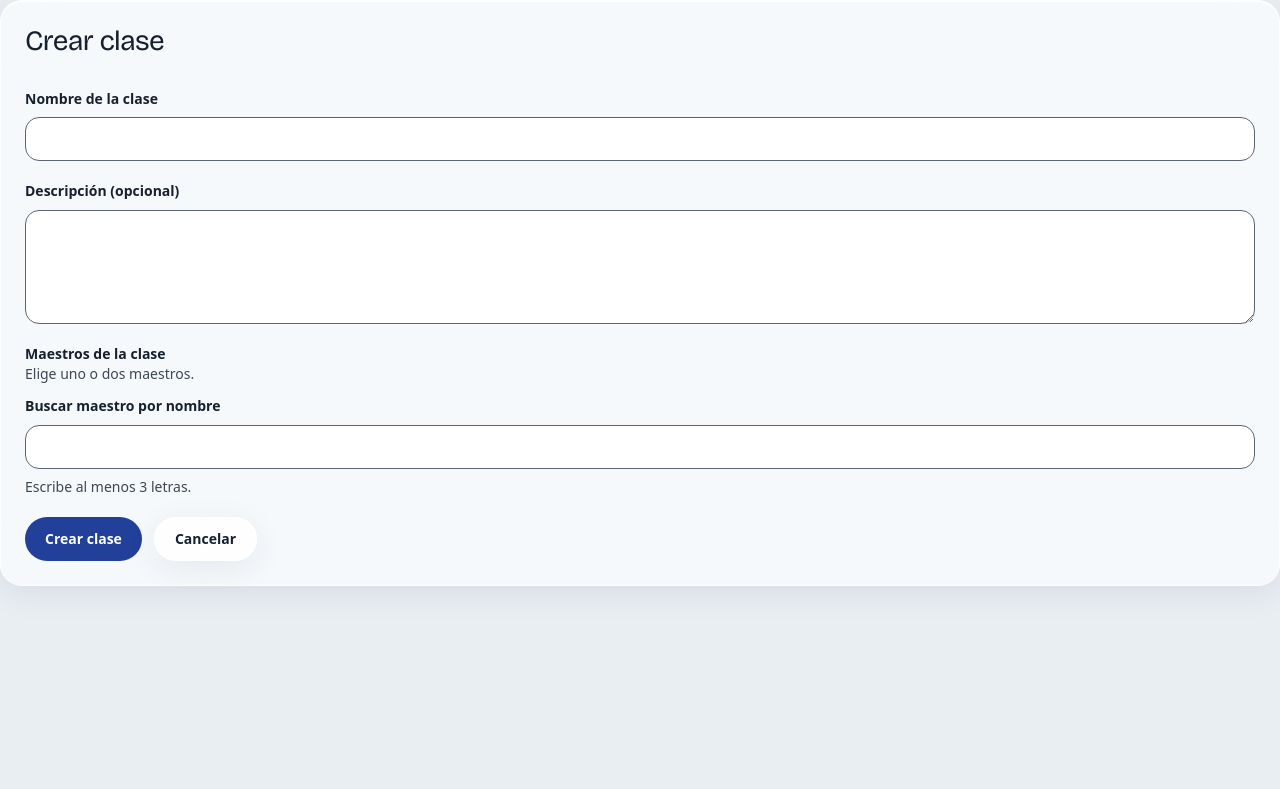
Scenario: ataque CLASES-02c r1: el selector de maestros al crear una clase › sin elegidos: «Elige al menos un maestro» y no se pide nada; al elegir, el error se va
In the field labelled "Nombre de la clase": (640, 140) [25,118,1255,162], type "Historia"
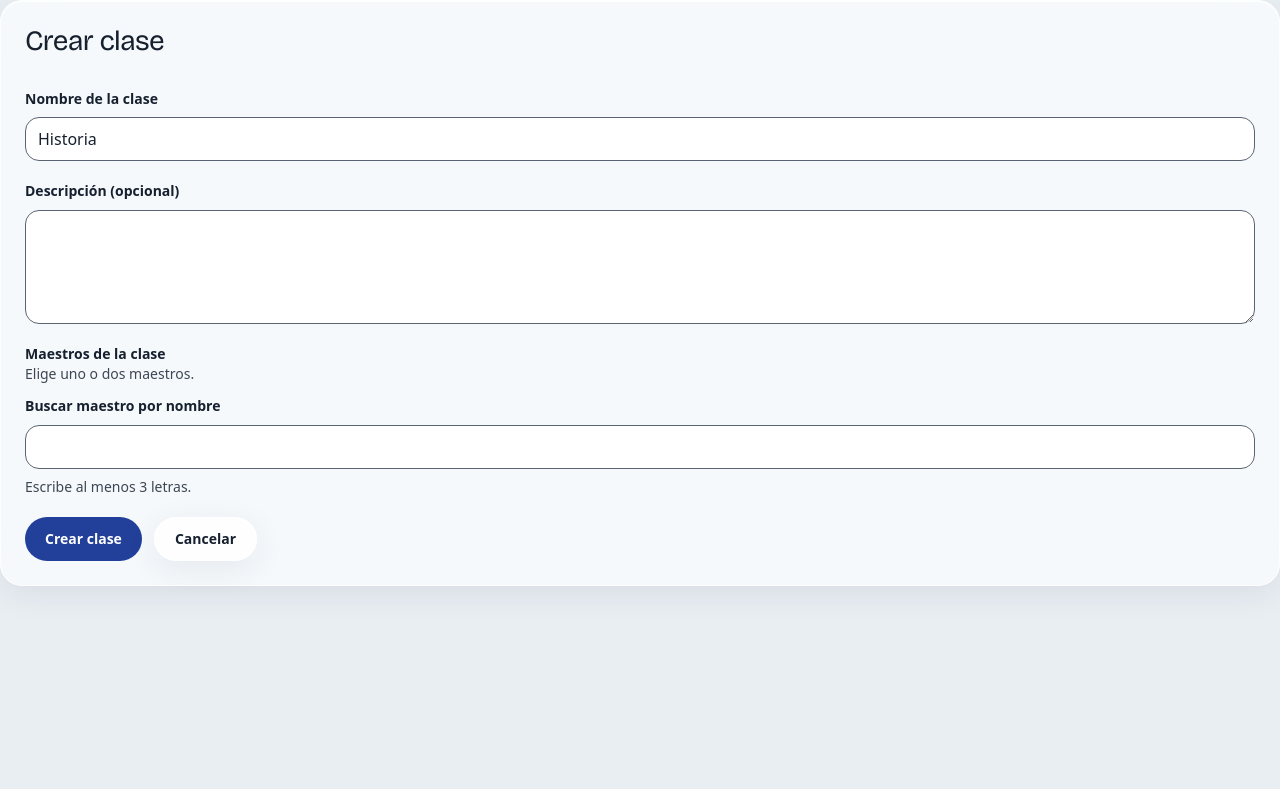
Click the button "Crear clase": (83, 539) [25,517,142,561]
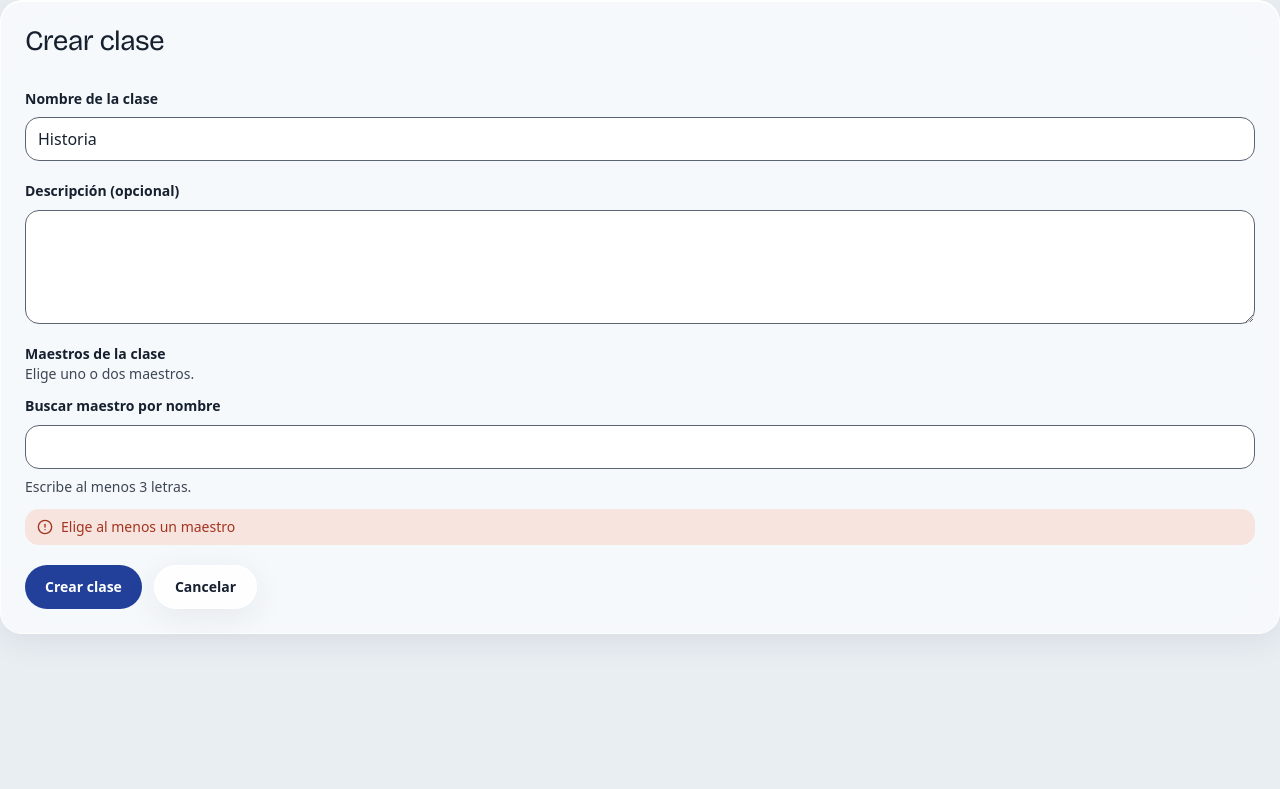
Expected: the text "Elige al menos un maestro" is shown, [25,509,1255,545]
In the field labelled "Buscar maestro por nombre": (640, 447) [25,425,1255,469], type "Luis"
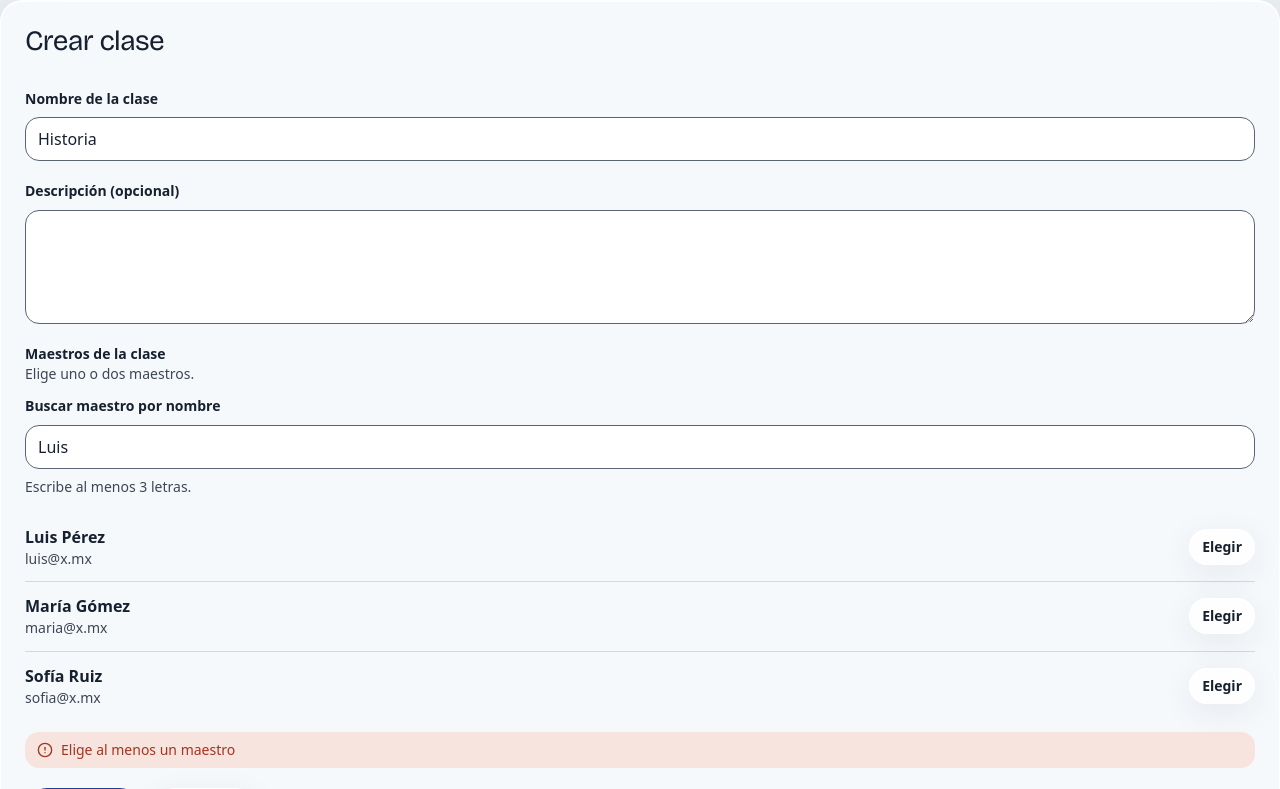
Click the button named "Elegir Luis Pérez": (1222, 547) [1189,529,1255,565]
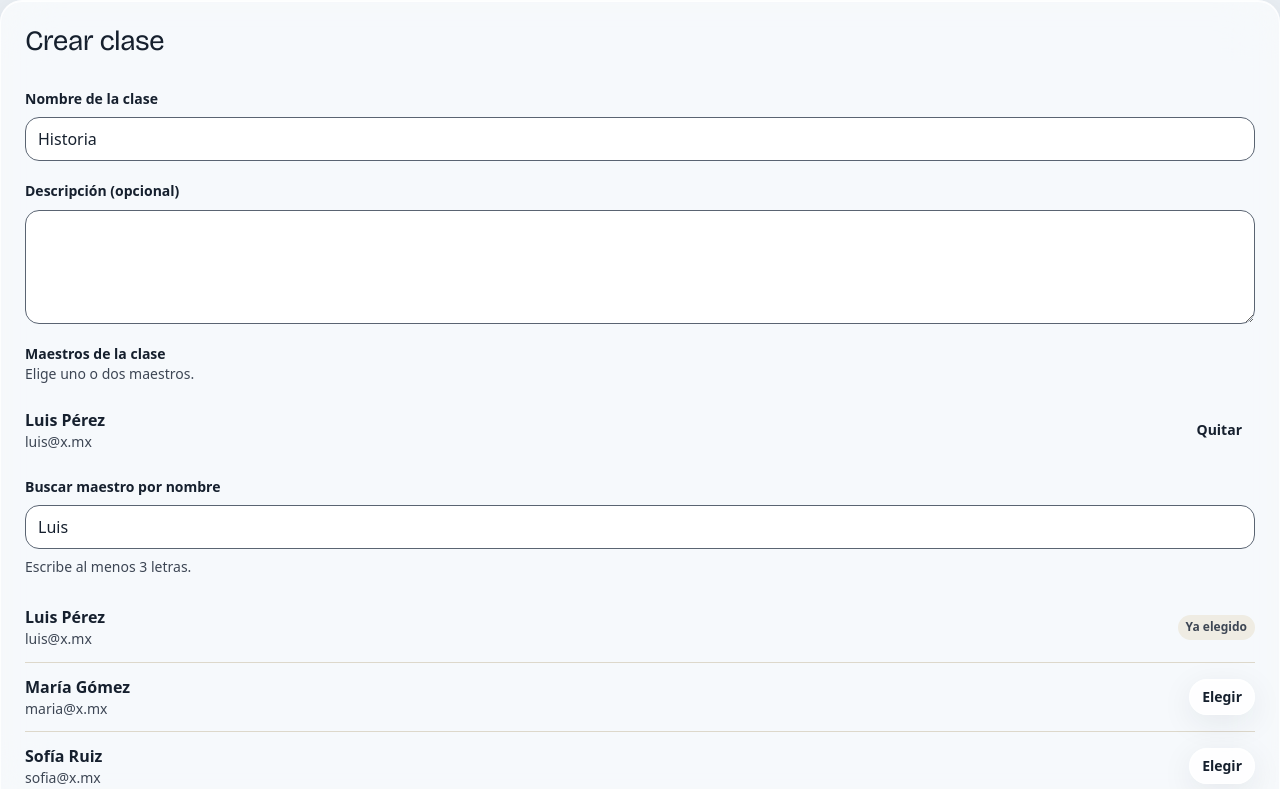
Expected: the text "Elige al menos un maestro" is gone
